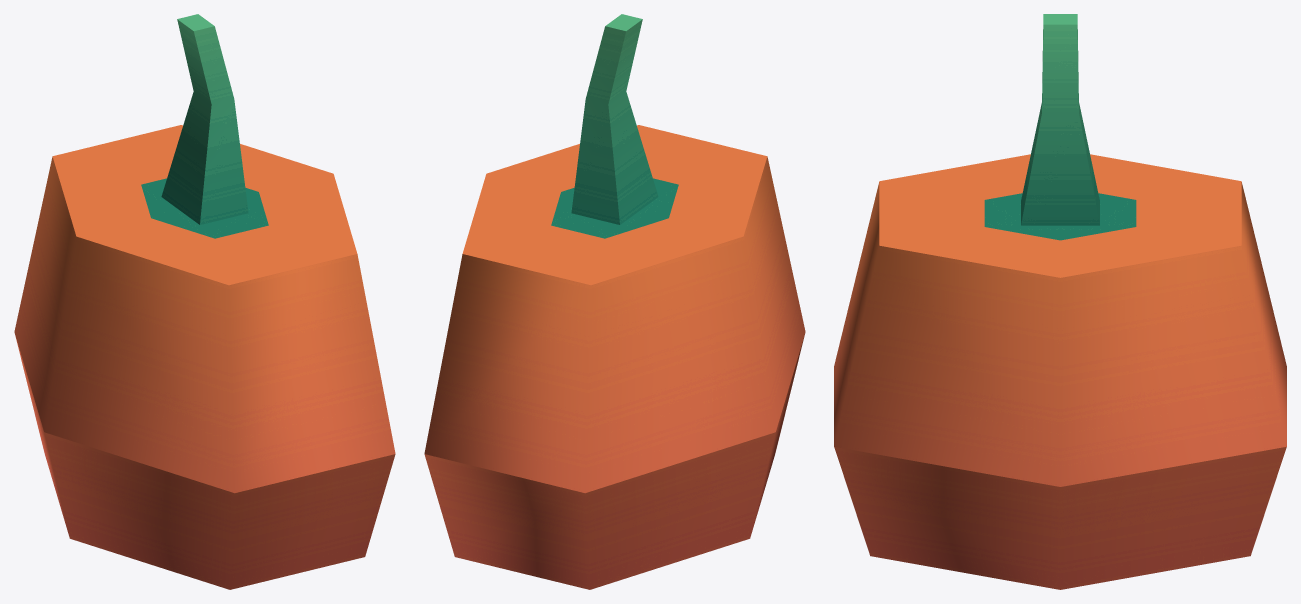
The model's file is pumpkin_lev2.glb.
3 renders of one model, left to right at view 1: azimuth 30°, elevation 25°; view 2: azimuth 150°, elevation 25°; view 3: azimuth 270°, elevation 25°, orthographic. The views are drawn at different scales.
Visible parts, largest first — view 1: pumpkin_lev2; view 2: pumpkin_lev2; view 3: pumpkin_lev2.
Boxes of the visible parts, x1,y1,x2,y2 form: pumpkin_lev2: [14, 14, 395, 589]; pumpkin_lev2: [424, 14, 805, 589]; pumpkin_lev2: [834, 14, 1286, 589].
Size of the model in its own units: 4.43 by 6.39 by 5.26.
Materials: 1 (1 with a texture image).
